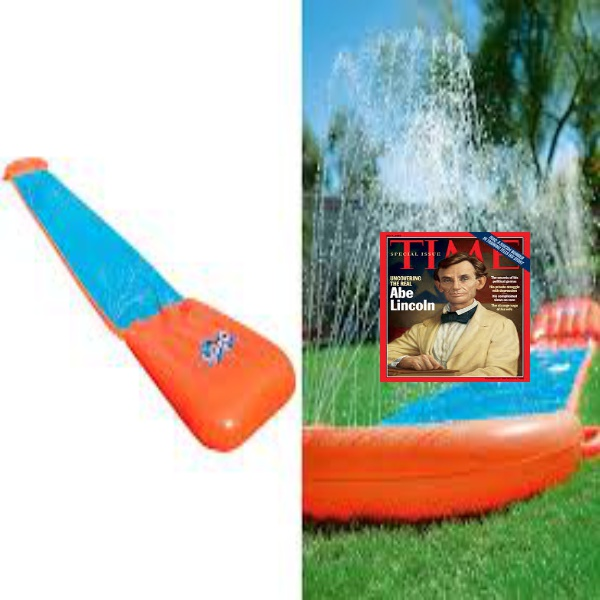time_cover: (372, 212, 541, 383)
